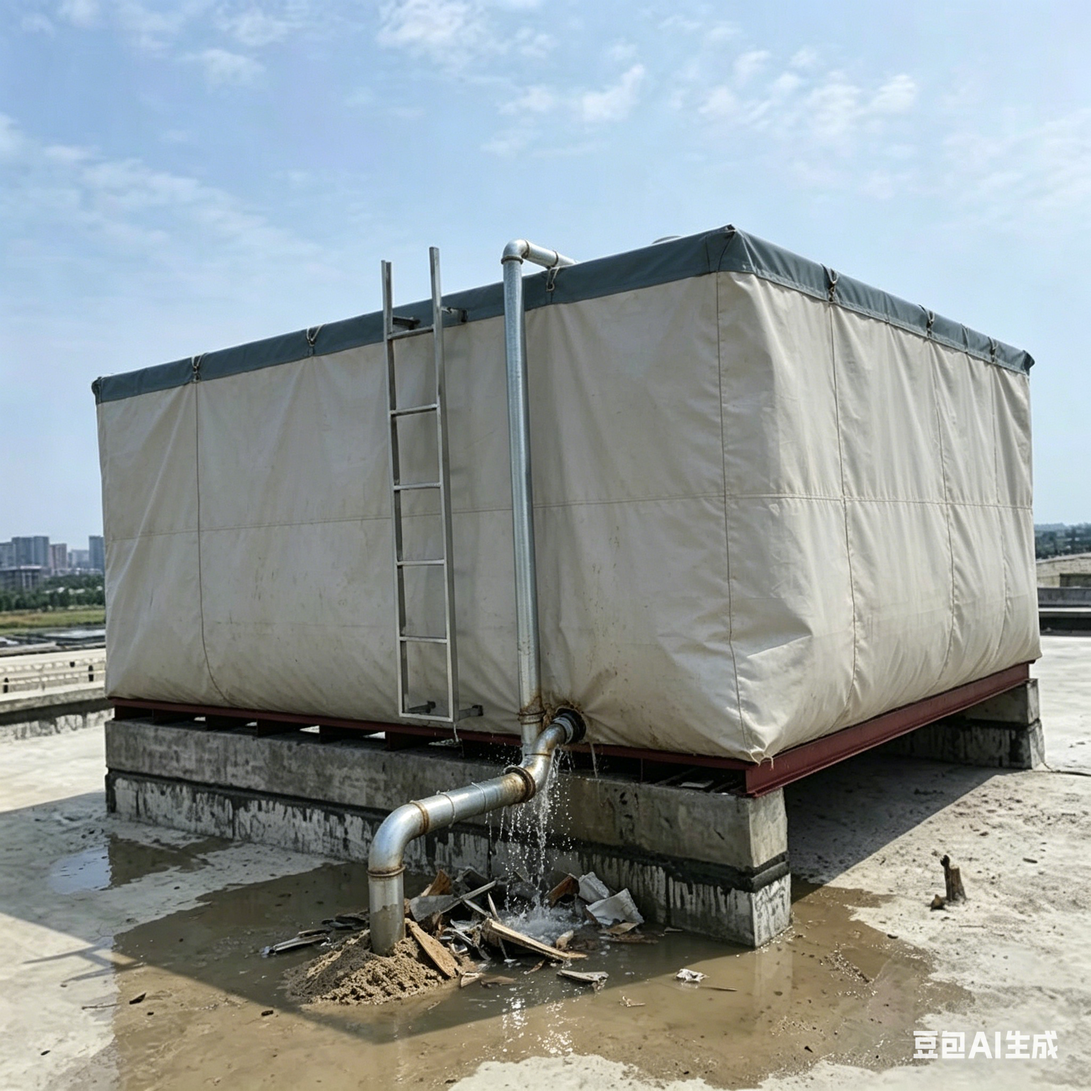Leakage: (600, 790, 951, 1091), (120, 933, 463, 1091), (479, 710, 592, 1055), (229, 858, 465, 925), (48, 824, 174, 892)
